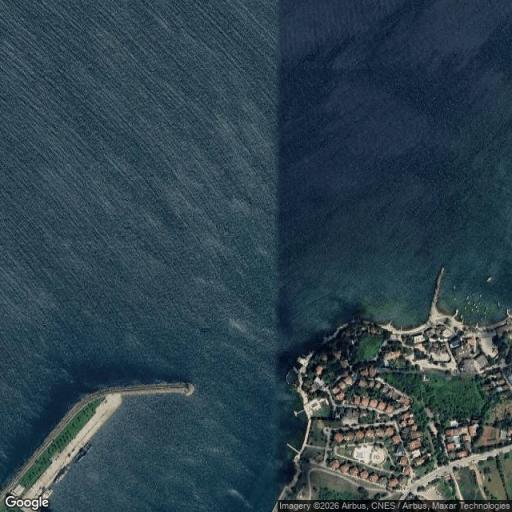ship: (491, 298, 502, 310), (484, 271, 493, 284), (452, 306, 458, 318), (457, 310, 464, 320), (452, 283, 456, 295), (482, 310, 488, 318), (452, 296, 461, 301), (463, 303, 469, 310), (476, 301, 483, 306), (475, 293, 481, 298), (472, 301, 478, 306), (474, 304, 480, 309), (475, 308, 480, 314), (470, 307, 476, 311), (484, 308, 490, 312), (466, 295, 468, 303)
